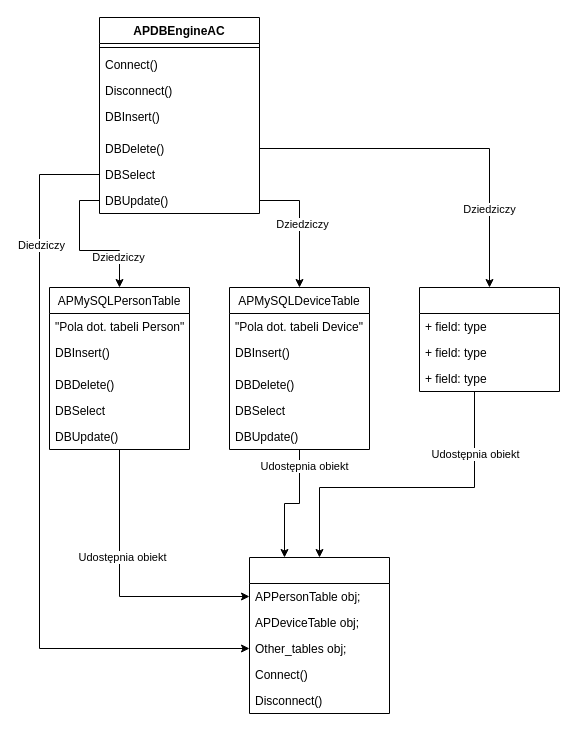
This 577x734 diagram has some shape labels left out. Each missing label, with the box of its shape:
"Other tables": (418, 286, 560, 392)
APMySQLDBEngine: (248, 556, 390, 714)
